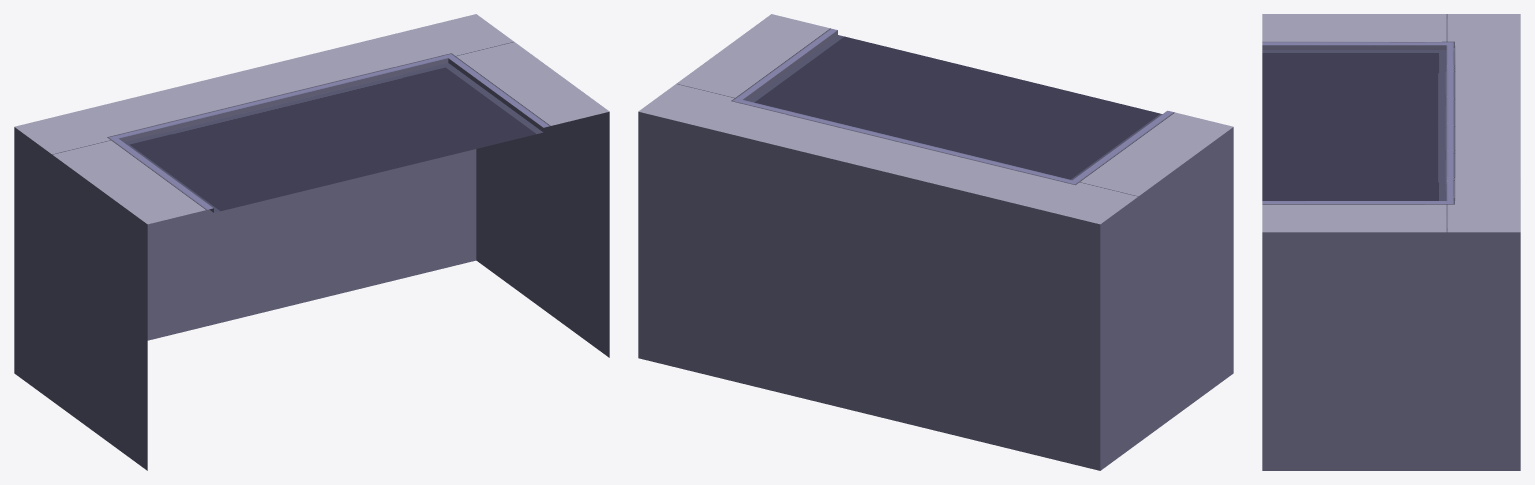
The model's file is block_5.fbx.
3 renders of one model, left to right at view 1: azimuth 30°, elevation 25°; view 2: azimuth 150°, elevation 25°; view 3: azimuth 270°, elevation 25°, orthographic. The views are drawn at different scales.
Visible parts, largest first — view 1: Block_5; view 2: Block_5; view 3: Block_5.
Boxes of the visible parts, x1,y1,x2,y2 form: Block_5: [14, 14, 609, 470]; Block_5: [638, 14, 1233, 470]; Block_5: [1262, 14, 1520, 470].
Bounding box in the file's own units: 20 × 10.19 × 10.
Materials: 1 (1 with a texture image).
